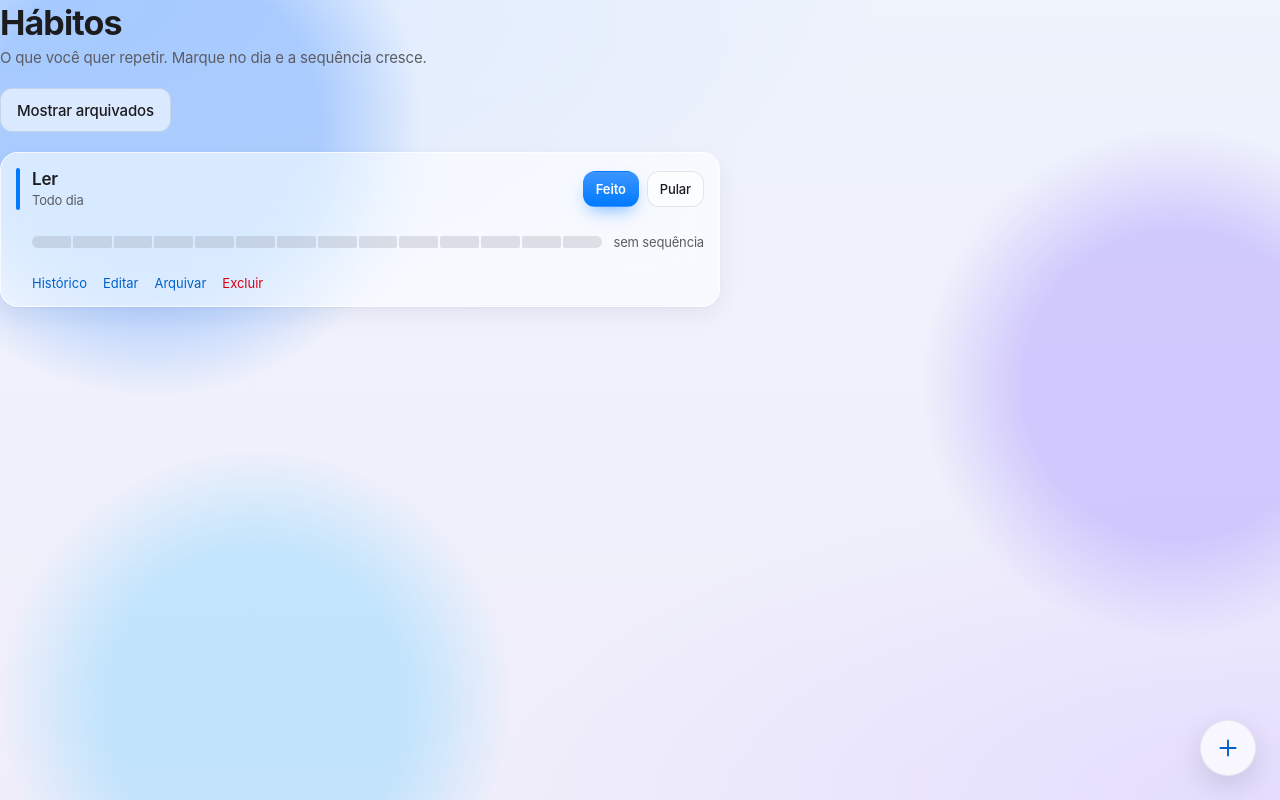
Test case: Habitos › a exclusao avisa que o historico vai junto antes de apagar
This screenshot has width=1280, height=800.
Click the button "Excluir" at {"x": 243, "y": 283}, box [222, 275, 263, 291]
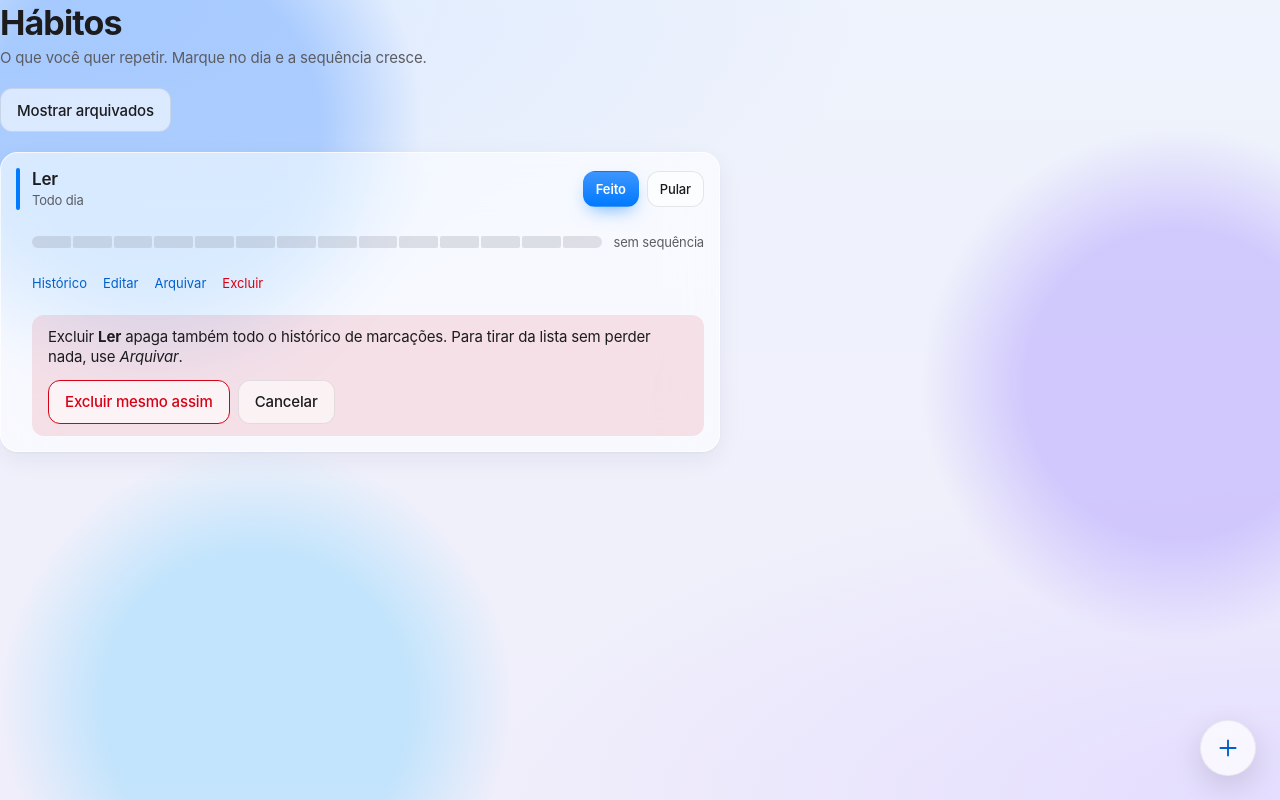
Check: the text "apaga também todo o histórico" is shown, box [48, 327, 650, 366]
Click the button "Excluir mesmo assim" at {"x": 139, "y": 402}, box [48, 380, 230, 424]
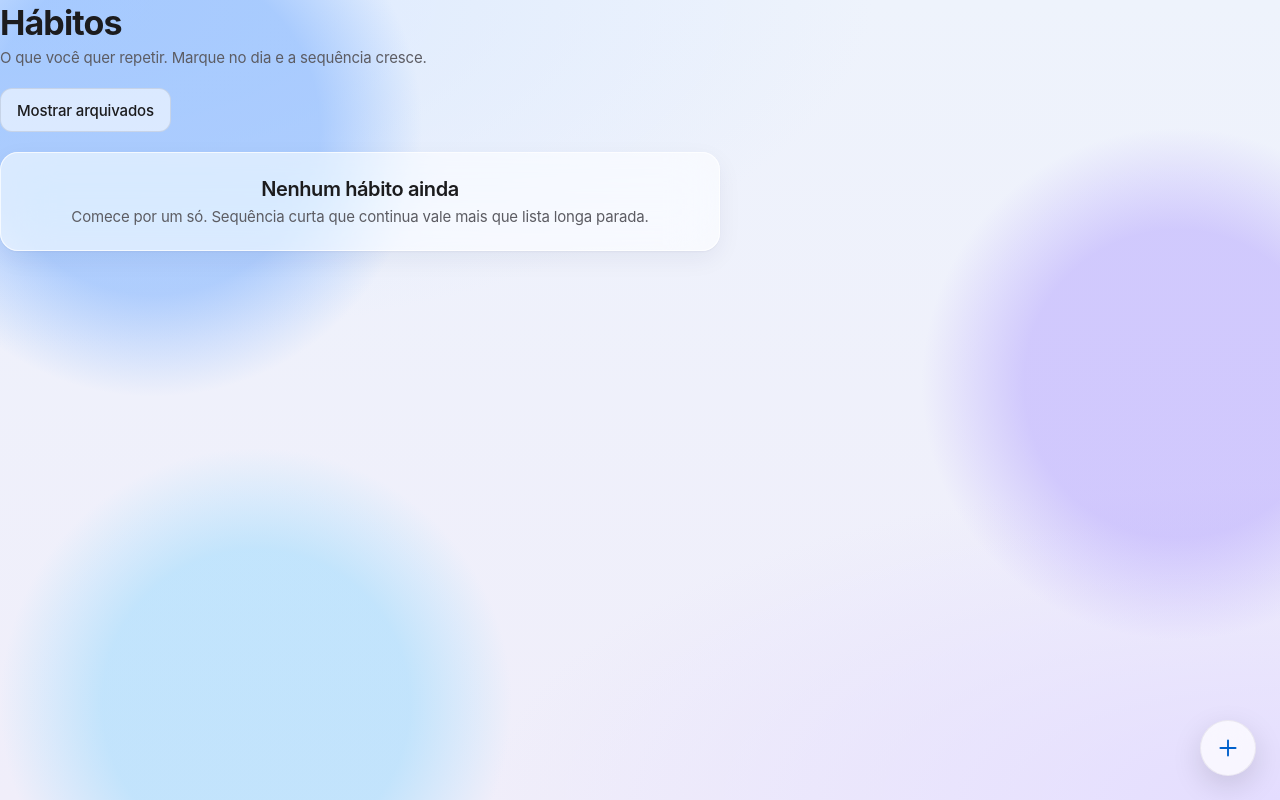
Check: the text "Nenhum hábito ainda" is shown, box [261, 177, 459, 201]
